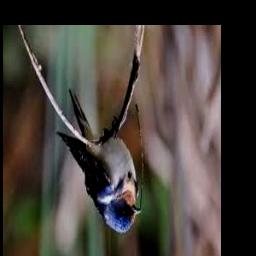Swallow: (56, 89, 142, 232)
